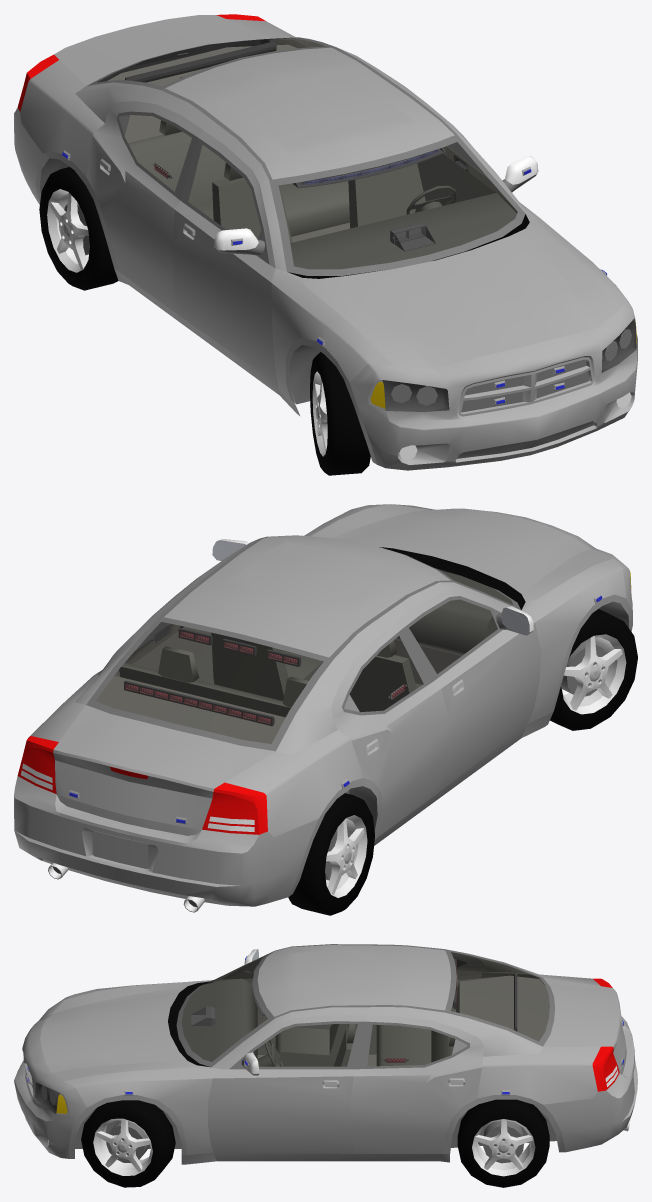
The model's file is charger.glb.
3 views of the same model, one above another, from view 1: azimuth 30°, elevation 25°; view 2: azimuth 150°, elevation 25°; view 3: azimuth 270°, elevation 25° (orthographic). The views are drawn at different scales.
Parts seen in each view (by area): view 1: material_15_24, material_35_24, material_16_24008, material_22_24, material_29_24001, material_28_24001, material_20_24002, material_20_24001, material_29_24005, material_32_24, material_29_24, material_33_24 (+7 smaller); view 2: material_15_24, material_35_24, material_16_24008, material_28_24001, material_20_24001, material_30_24, material_29_24005, material_22_24, material_20_24002, material_29_24, material_29_24001, material_18_24007 (+10 smaller); view 3: material_15_24, material_35_24, material_16_24008, material_28_24001, material_22_24, material_20_24, material_20_24003, material_29_24001, material_29_24, material_28_24, material_18_24009, material_18_24010 (+9 smaller).
Part boxes in pixels (bbox=[...]): material_15_24: bbox=[14, 15, 637, 470]; material_35_24: bbox=[97, 37, 636, 411]; material_16_24008: bbox=[87, 37, 593, 458]; material_22_24: bbox=[290, 193, 516, 269]; material_29_24001: bbox=[128, 132, 349, 236]; material_28_24001: bbox=[107, 44, 517, 242]; material_20_24002: bbox=[310, 352, 370, 475]; material_20_24001: bbox=[39, 167, 118, 290]; material_29_24005: bbox=[348, 163, 425, 228]; material_32_24: bbox=[458, 357, 593, 416]; material_29_24: bbox=[212, 178, 292, 242]; material_33_24: bbox=[119, 115, 636, 411]; material_15_24: bbox=[14, 504, 632, 906]; material_35_24: bbox=[96, 556, 512, 743]; material_16_24008: bbox=[86, 536, 520, 751]; material_28_24001: bbox=[96, 627, 461, 743]; material_20_24001: bbox=[288, 793, 374, 915]; material_30_24: bbox=[17, 736, 267, 834]; material_29_24005: bbox=[211, 633, 323, 700]; material_22_24: bbox=[395, 571, 512, 655]; material_20_24002: bbox=[550, 609, 637, 730]; material_29_24: bbox=[349, 655, 421, 711]; material_29_24001: bbox=[119, 662, 290, 717]; material_18_24007: bbox=[564, 636, 622, 710]; material_15_24: bbox=[14, 945, 637, 1164]; material_35_24: bbox=[35, 952, 549, 1113]; material_16_24008: bbox=[32, 944, 554, 1088]; material_28_24001: bbox=[249, 975, 549, 1066]; material_22_24: bbox=[181, 978, 257, 1061]; material_20_24: bbox=[81, 1100, 175, 1187]; material_20_24003: bbox=[457, 1099, 549, 1187]; material_29_24001: bbox=[376, 1004, 455, 1066]; material_29_24: bbox=[275, 1024, 347, 1066]; material_28_24: bbox=[213, 952, 544, 984]; material_18_24009: bbox=[472, 1119, 535, 1176]; material_18_24010: bbox=[474, 1119, 532, 1169].
Size of the model in its own units: 7.16 by 4.85 by 16.31.
